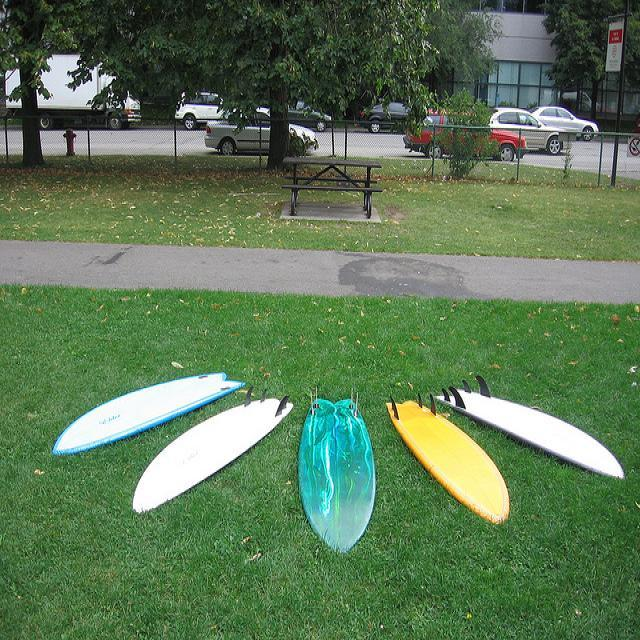fire_hydrant: (63, 126, 77, 156)
